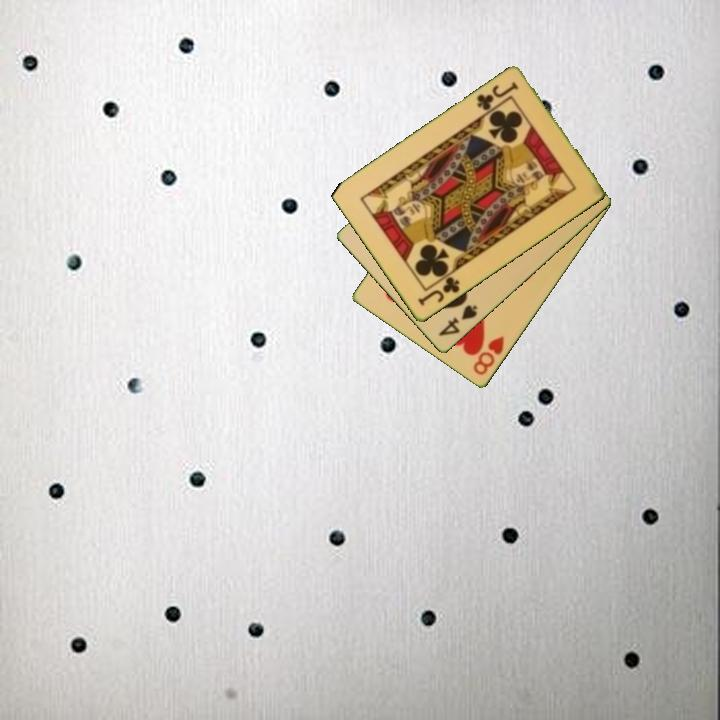4s: (435, 301, 480, 340)
8h: (470, 333, 507, 379)
Jc: (414, 273, 463, 309), (473, 79, 521, 114)
